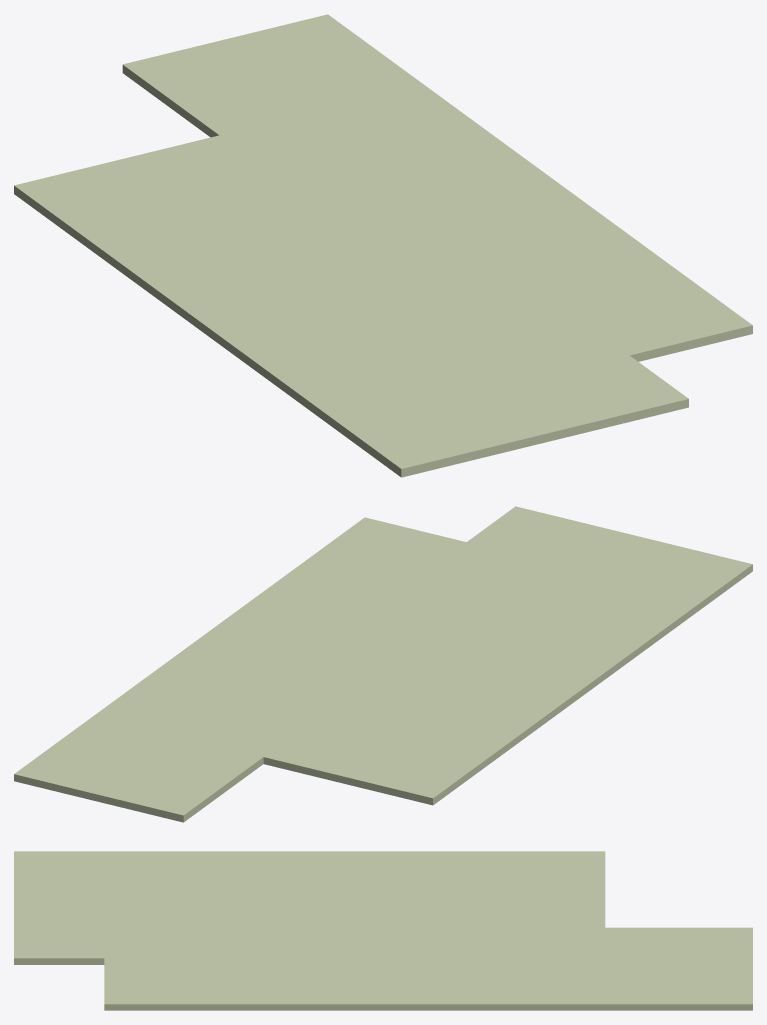
File: roof-option.glb
3 renders of one model, top to bottom at view 1: azimuth 30°, elevation 25°; view 2: azimuth 150°, elevation 25°; view 3: azimuth 270°, elevation 25°, orthographic. The views are drawn at different scales.
Visible parts, largest first — view 1: OPSI_Dak_Atap_Beton_NOT_DESIGNED__WEB; view 2: OPSI_Dak_Atap_Beton_NOT_DESIGNED__WEB; view 3: OPSI_Dak_Atap_Beton_NOT_DESIGNED__WEB.
Part boxes in pixels (x1,y1,x2,y2): OPSI_Dak_Atap_Beton_NOT_DESIGNED__WEB: [14, 14, 752, 477]; OPSI_Dak_Atap_Beton_NOT_DESIGNED__WEB: [14, 506, 752, 822]; OPSI_Dak_Atap_Beton_NOT_DESIGNED__WEB: [14, 851, 752, 1010].
Bounding box in the file's own units: 6 × 0.12 × 12.25.
